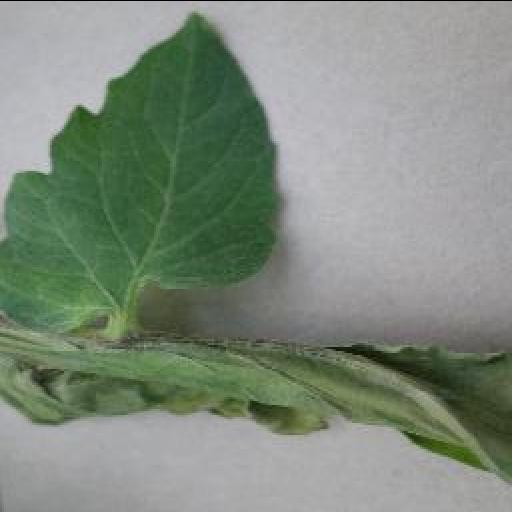disease_tomato: (0, 338, 512, 486)
